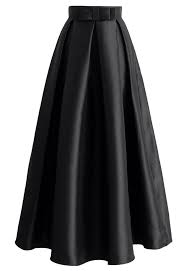S_skirt: (17, 9, 178, 269)
